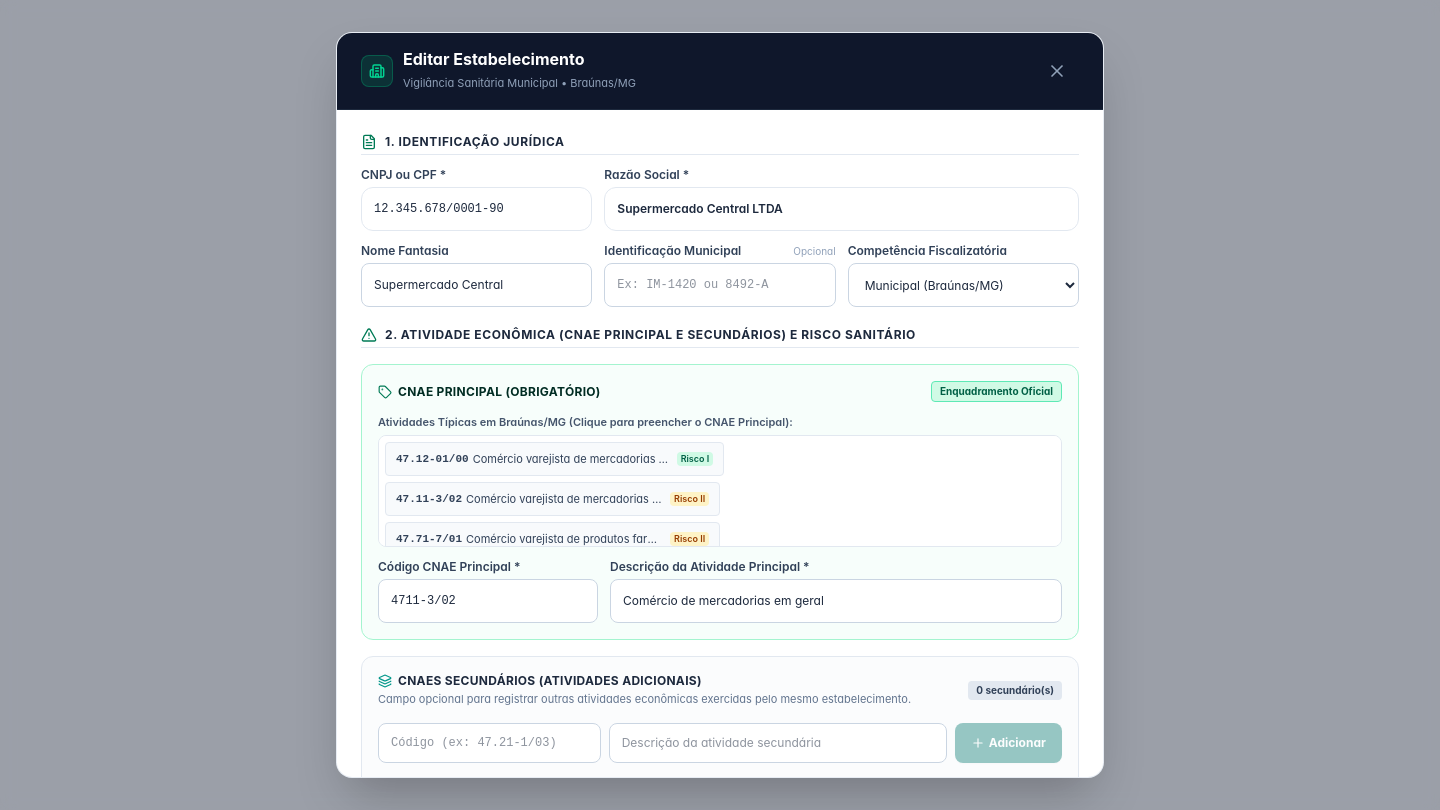
EstabelecimentoModal - Unit Tests › permite selecionar o CNAE padrao 47.12-01/00 de Risco I com um clique
Expected: the field showing "4711-3/02" is shown, [378,579,598,623]
# Clica no botão 47.12-01/00 na lista de atividades típicas
Click the text "47.12-01/00".
click(432, 459)  # box [396,451,469,467]
(page scrolled)
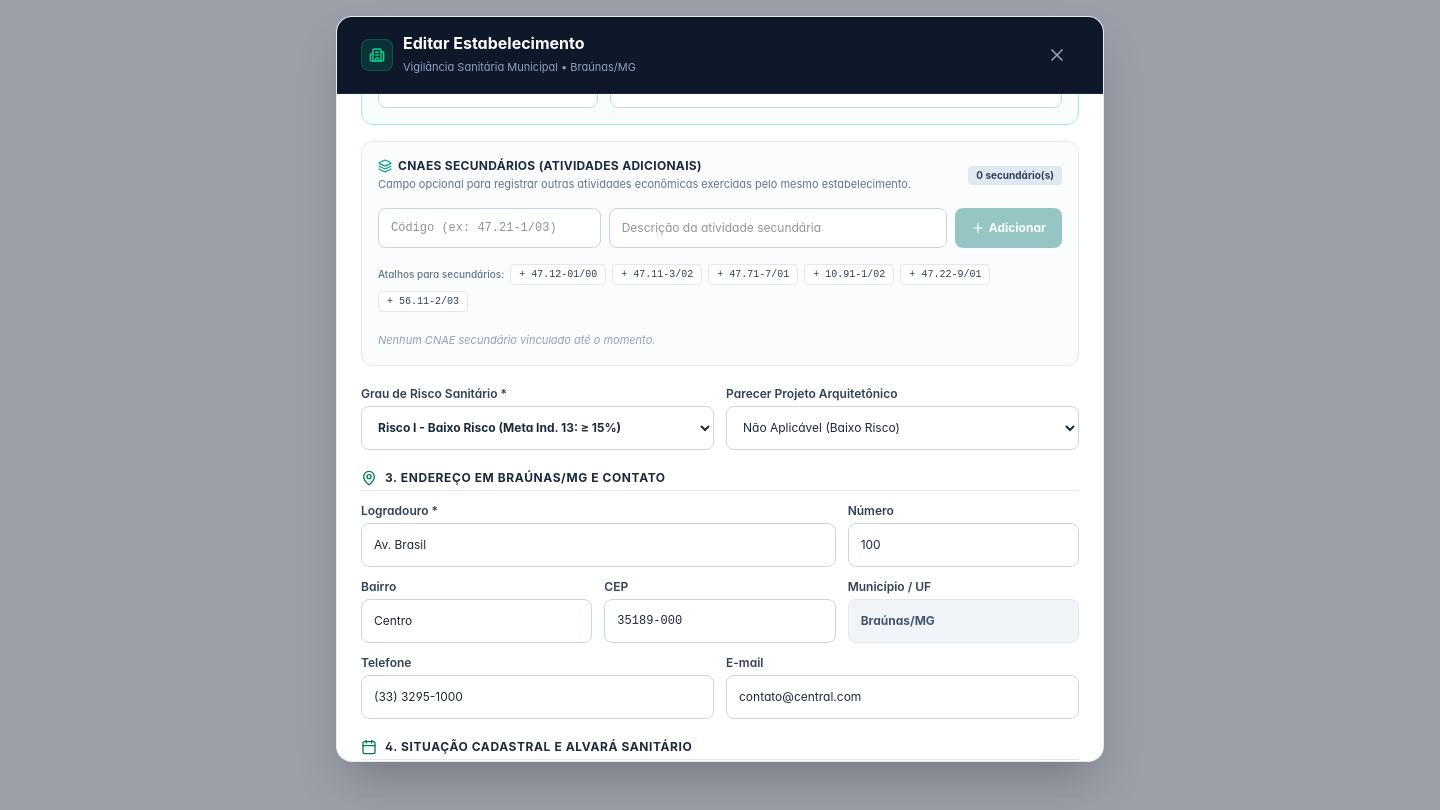
Expected: the dropdown showing "Risco I - Baixo Risco" shows "Risco I - Baixo Risco (Meta Ind. 13: ≥ 15%)", [361,406,714,450]
